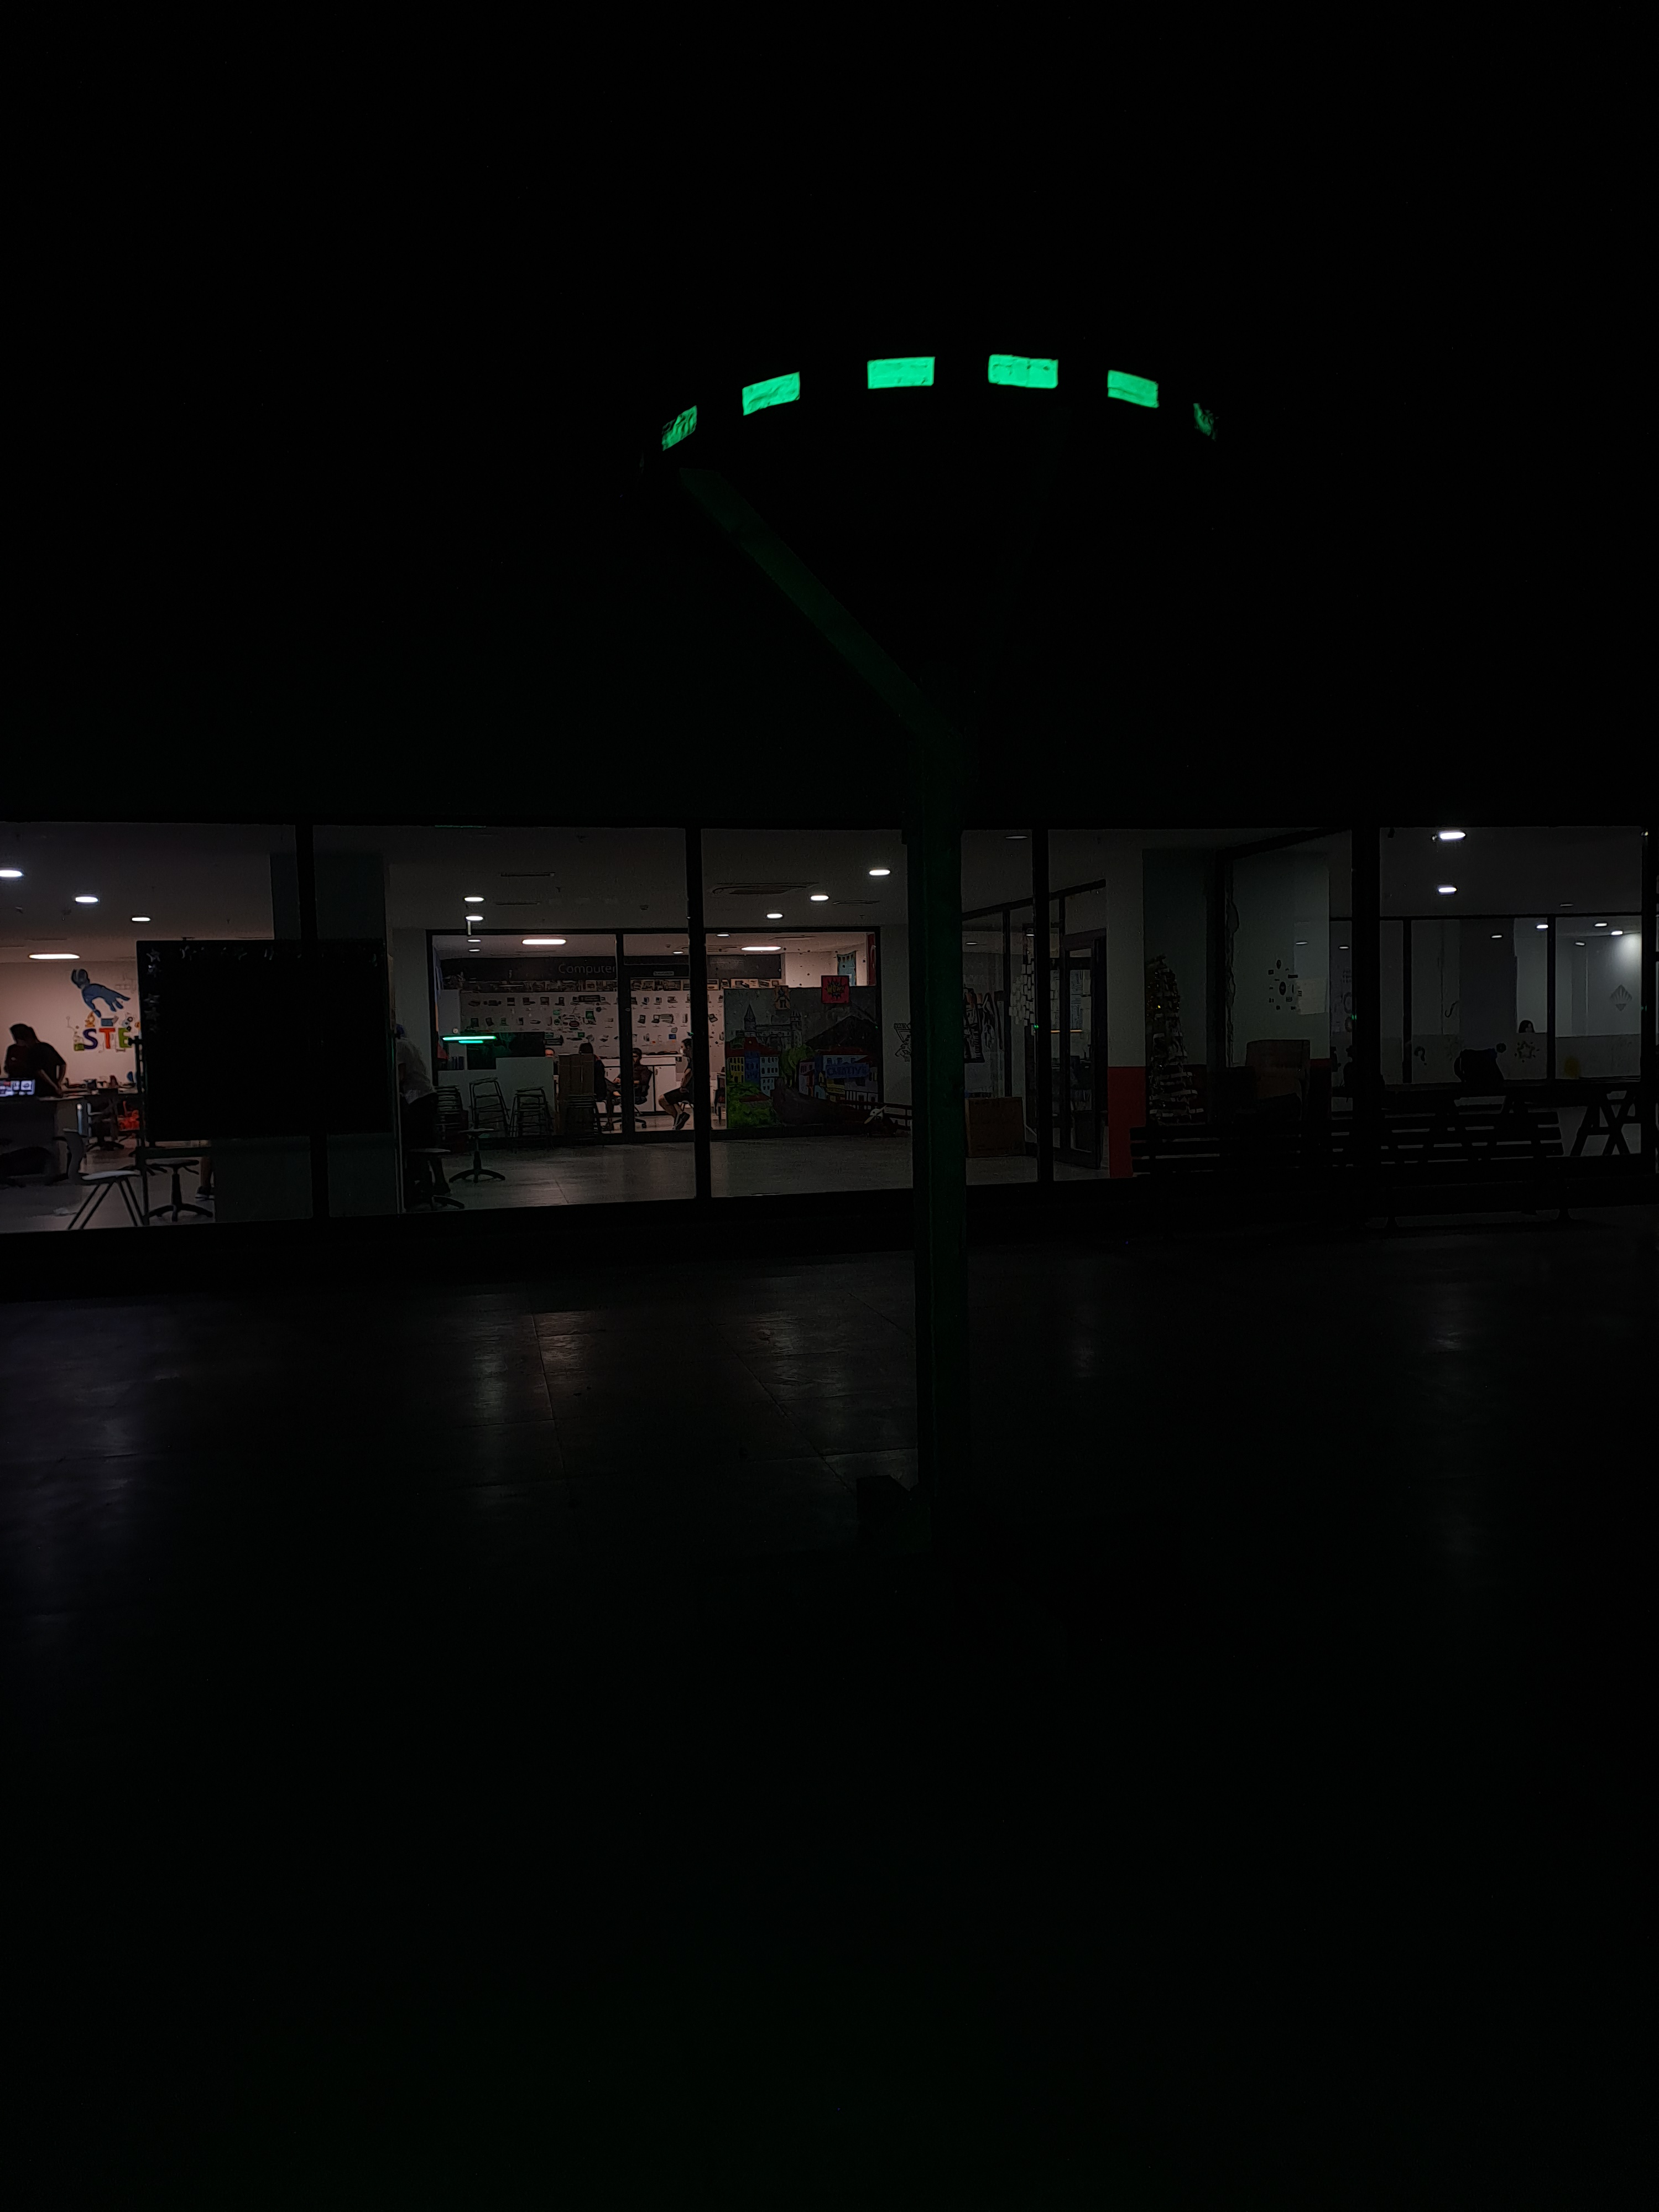hoop: (659, 343, 1218, 460)
